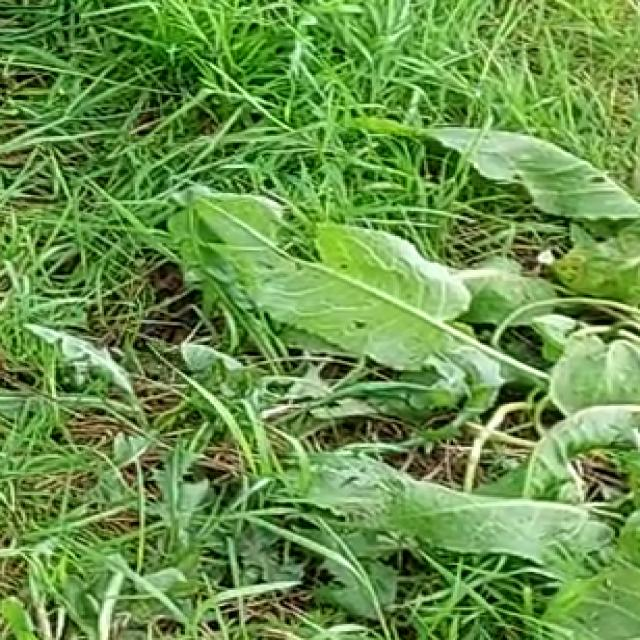organic waste: (135, 114, 640, 640)
